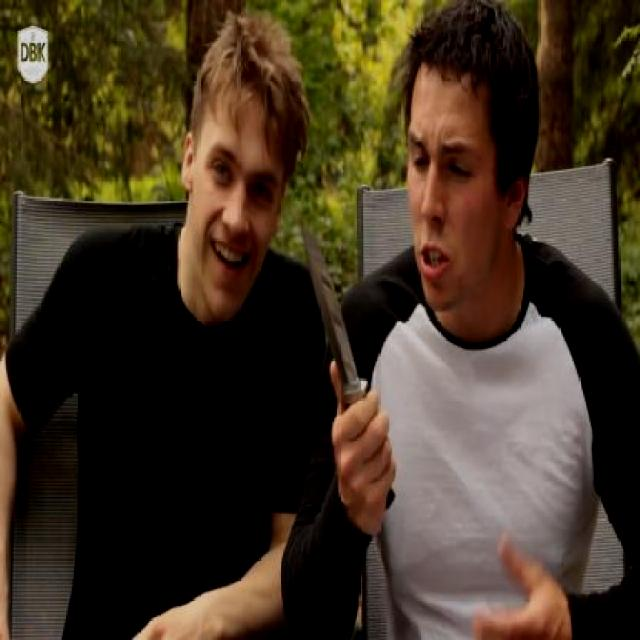knife: (295, 201, 397, 477)
